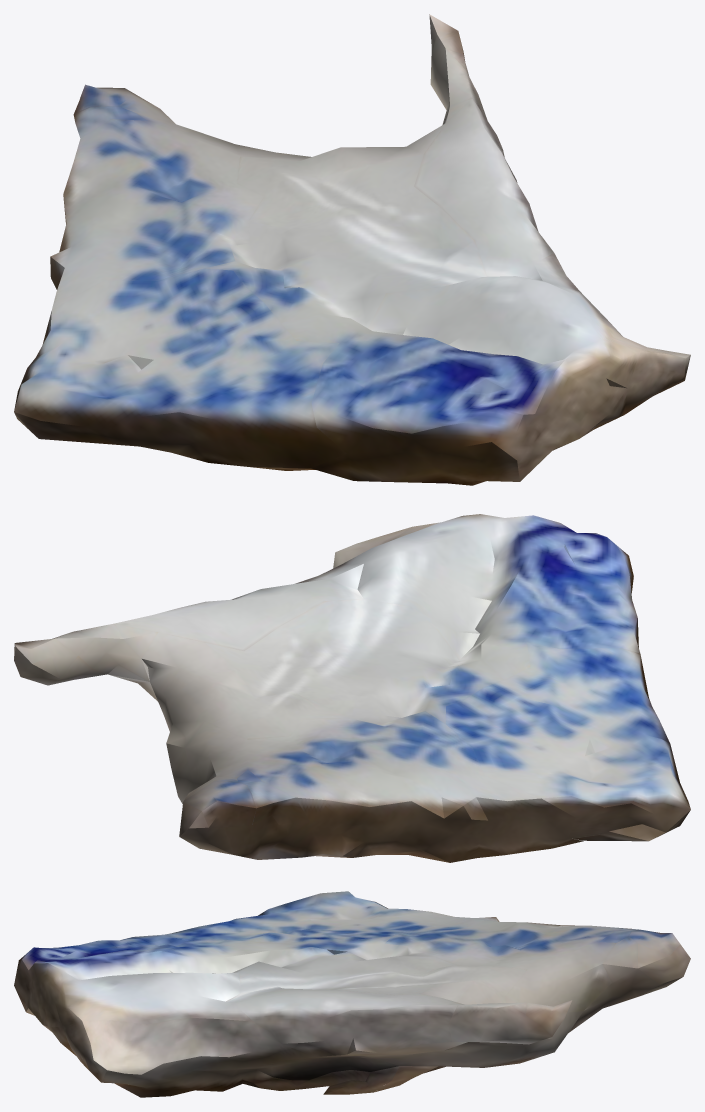
3 renders of one model, top to bottom at view 1: azimuth 30°, elevation 25°; view 2: azimuth 150°, elevation 25°; view 3: azimuth 270°, elevation 25°, orthographic. The views are drawn at different scales.
Parts seen in each view (by area): view 1: Object_4; view 2: Object_4; view 3: Object_4.
Part boxes in pixels (x1=…): Object_4: x1=14, y1=14, x2=690, y2=485; Object_4: x1=14, y1=514, x2=690, y2=862; Object_4: x1=14, y1=891, x2=690, y2=1097.
Bounding box in the file's own units: 0.768 × 0.2194 × 1.
1 material, 1 textured.
